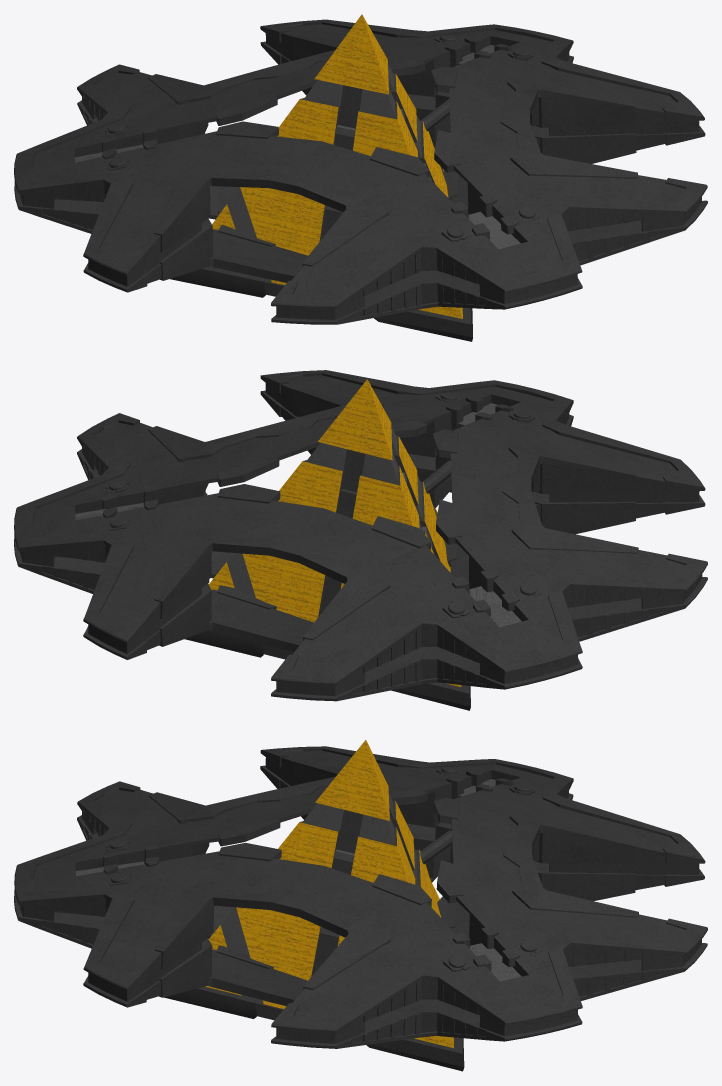
File: hatakv2.dae
The picture shows the model from 3 angles, top to bottom: view 1: azimuth 30°, elevation 25°; view 2: azimuth 150°, elevation 25°; view 3: azimuth 270°, elevation 25°; orthographic projection.
Visible parts, largest first — view 1: Component_4 (×24), Component_2 (×12); view 2: Component_4 (×24), Component_2 (×11); view 3: Component_4 (×24), Component_2 (×10).
Boxes of the visible parts, box(x1,y1,x2,y2) form: Component_4 (×24): box(14, 19, 707, 324); Component_2 (×12): box(170, 14, 472, 341); Component_4 (×24): box(14, 370, 707, 701); Component_2 (×11): box(184, 379, 470, 710); Component_4 (×24): box(14, 746, 707, 1048); Component_2 (×10): box(164, 740, 464, 1071).
Bounding box in the file's own units: 34304 × 34171 × 14457.
Materials: 5 (4 with a texture image).
